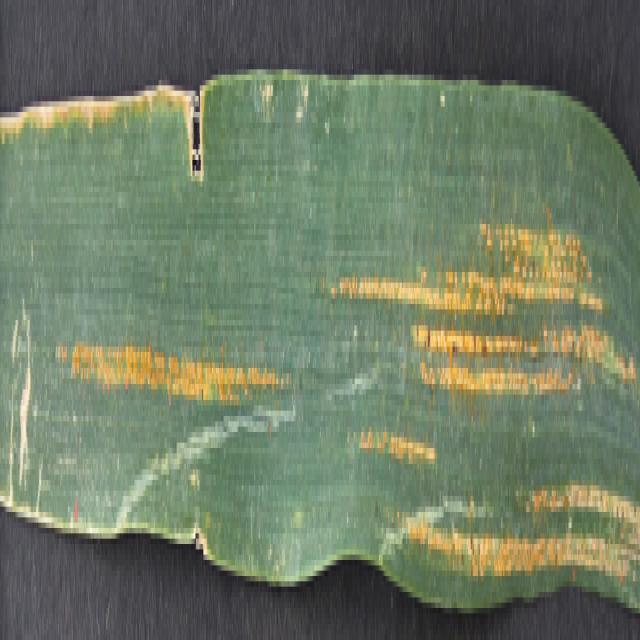leaf rust: (322, 170, 640, 586), (51, 197, 288, 496)
